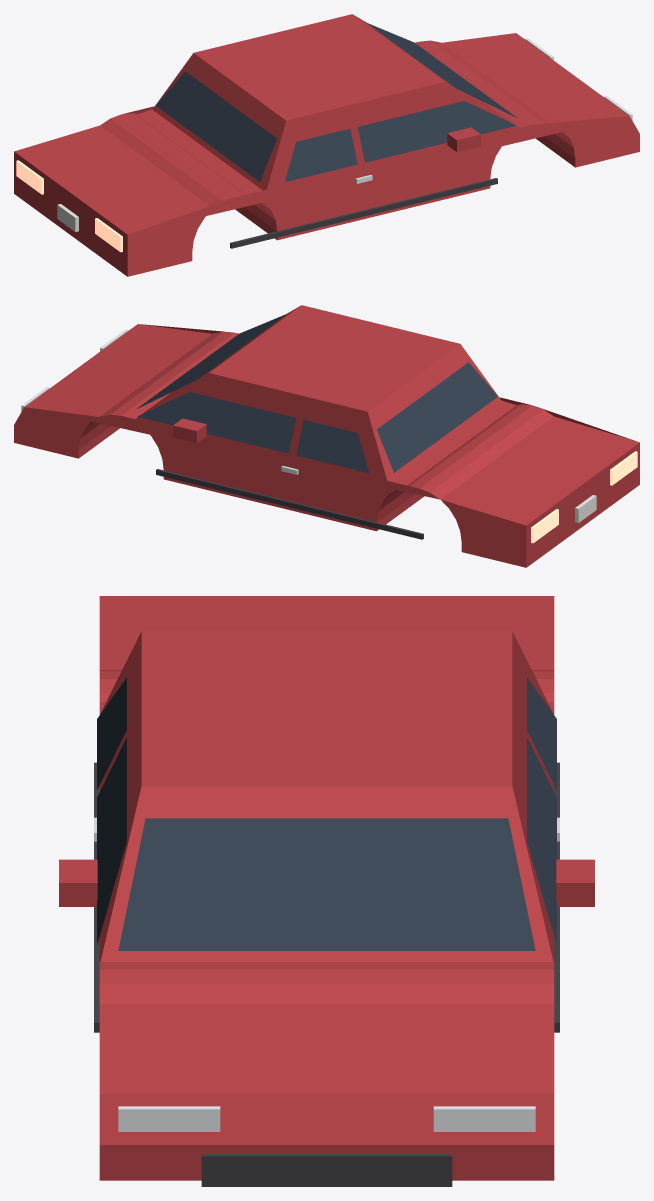
Rendered from SM_Veh_Muscle.fbx.
3 views of the same model, one above another, from view 1: azimuth 30°, elevation 25°; view 2: azimuth 150°, elevation 25°; view 3: azimuth 270°, elevation 25° (orthographic). The views are drawn at different scales.
Parts seen in each view (by area): view 1: SM_Veh_Muscle; view 2: SM_Veh_Muscle; view 3: SM_Veh_Muscle.
Part boxes in pixels (<box>): SM_Veh_Muscle: <box>14,14,639,276</box>; SM_Veh_Muscle: <box>14,305,639,567</box>; SM_Veh_Muscle: <box>59,596,594,1186</box>.
Size of the model in its own units: 496 by 222 by 99.76.
